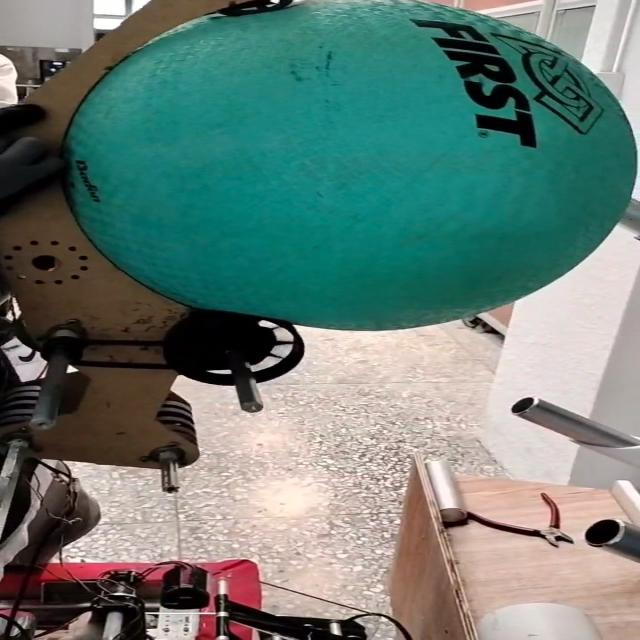ALGAE: (63, 0, 639, 330)
